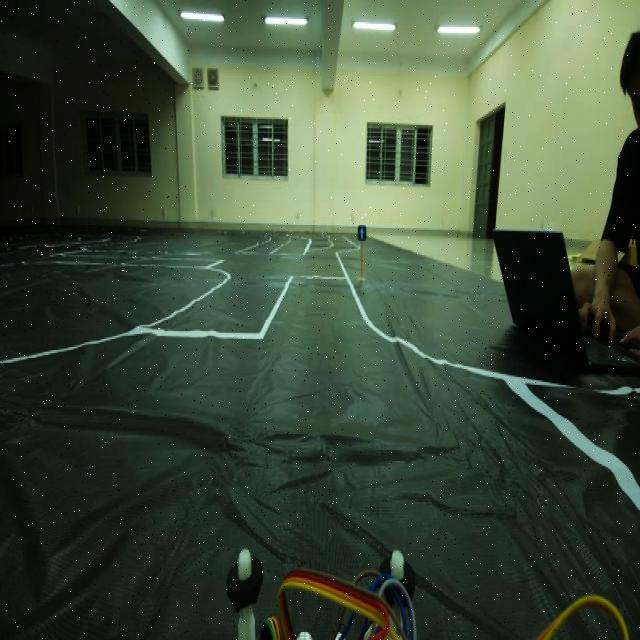onewayroad: (354, 217, 371, 246)
